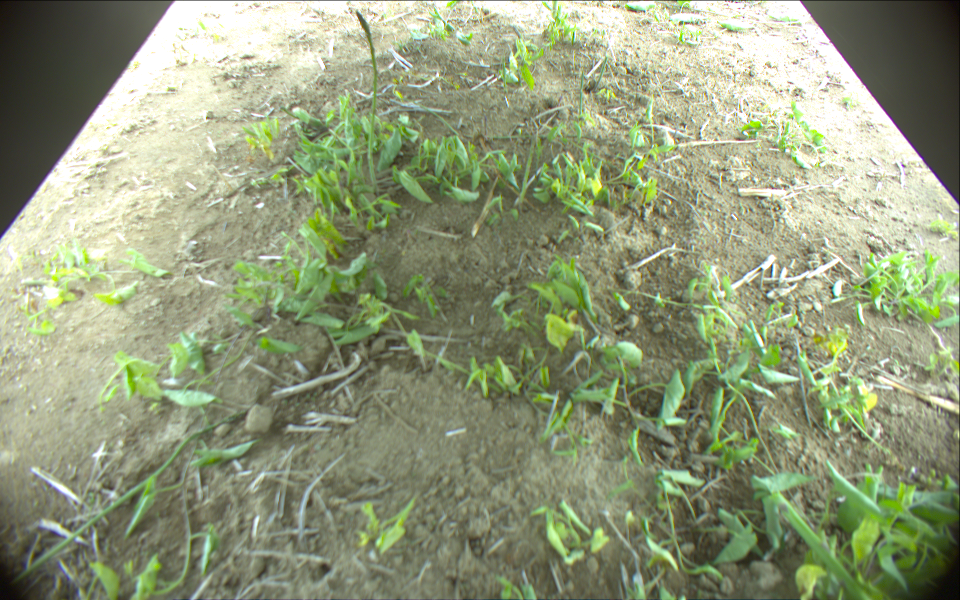aspa: (767, 490, 870, 600), (355, 11, 379, 187), (516, 116, 540, 204)
